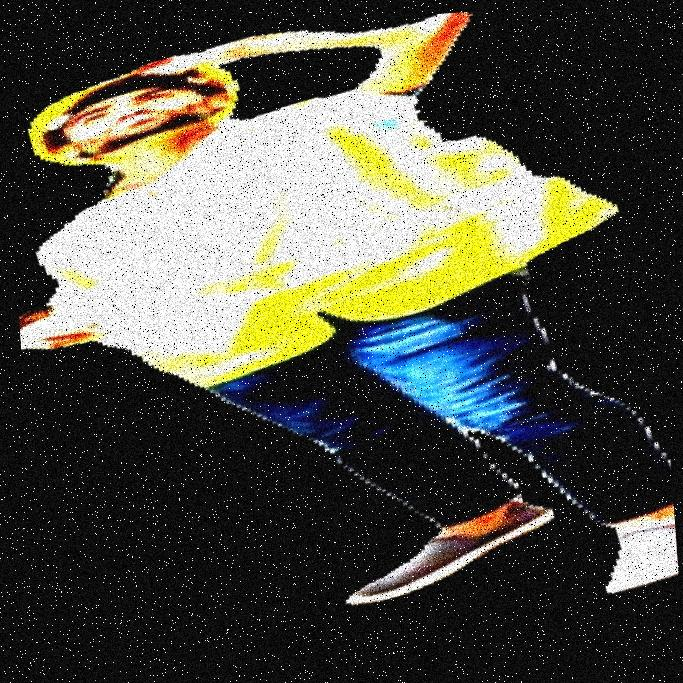Pessoa: (268, 0, 507, 682)
